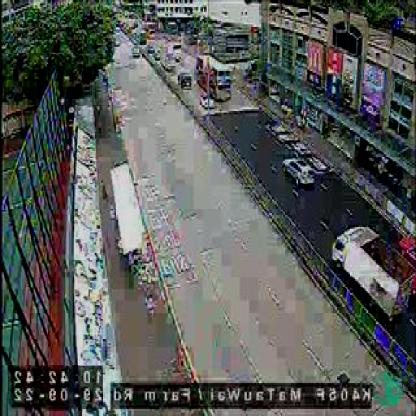Bus: (195, 50, 234, 101)
Car: (282, 147, 316, 194), (200, 92, 216, 109), (165, 48, 177, 70), (180, 71, 192, 85)
Truck: (330, 213, 415, 321)
